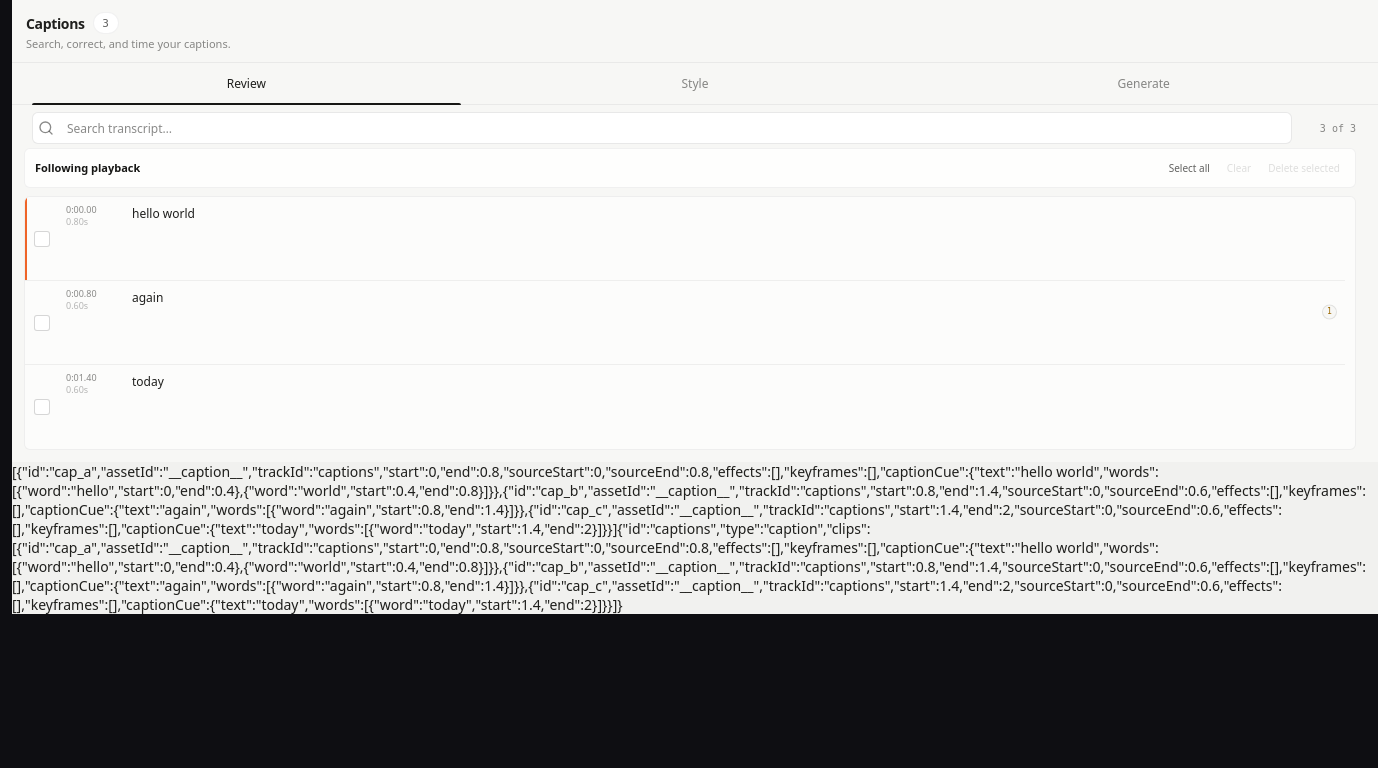
Test case: CaptionWorkspace workflow › batch deletes selected captions as one workspace action
Step 1. Click the button "Select all" → (1189, 168), box top-left (1161, 154), bottom-right (1218, 182)
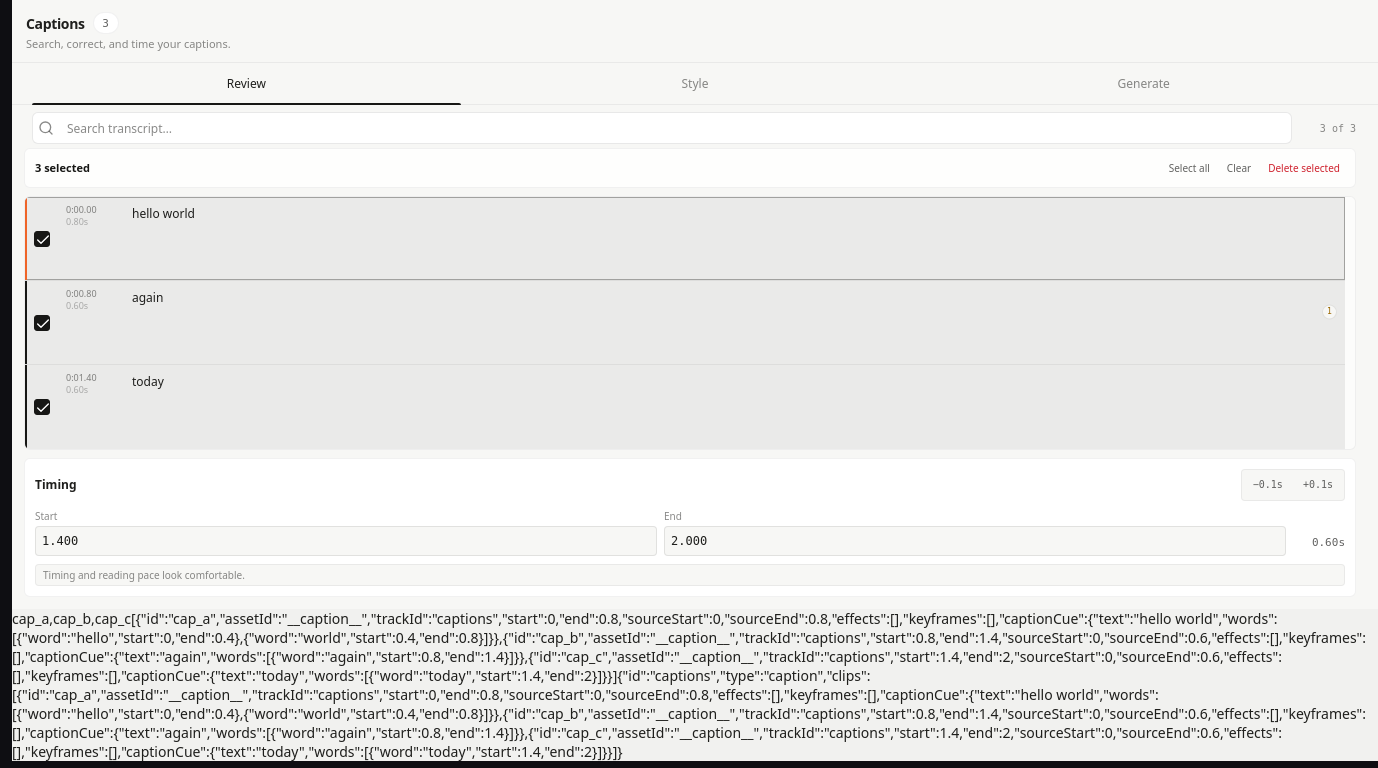
Step 2. Click the button "Delete selected" → (1304, 168), box top-left (1260, 154), bottom-right (1348, 182)
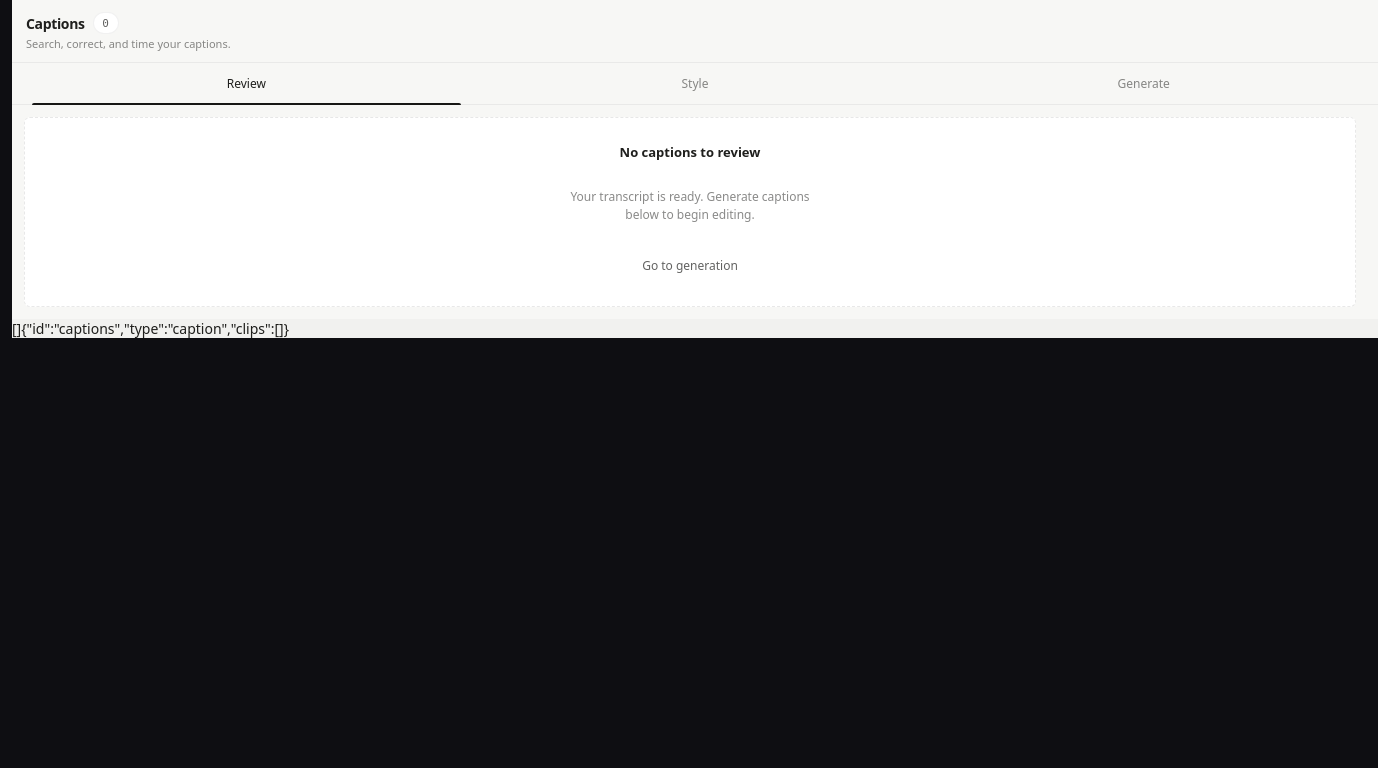
Result: the text "No captions to review" is shown at top-left (620, 143), bottom-right (760, 161)
Result: the text with test id "caption-state" reads "[]" at top-left (12, 319), bottom-right (21, 338)
